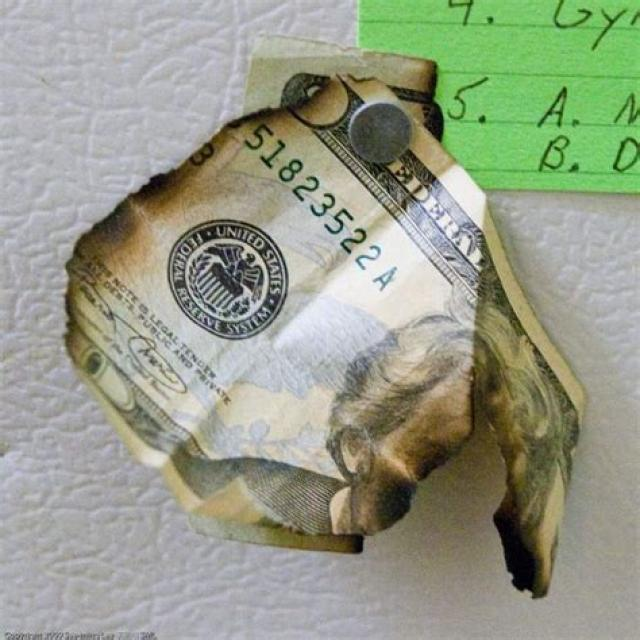banknote: (48, 35, 591, 607)
